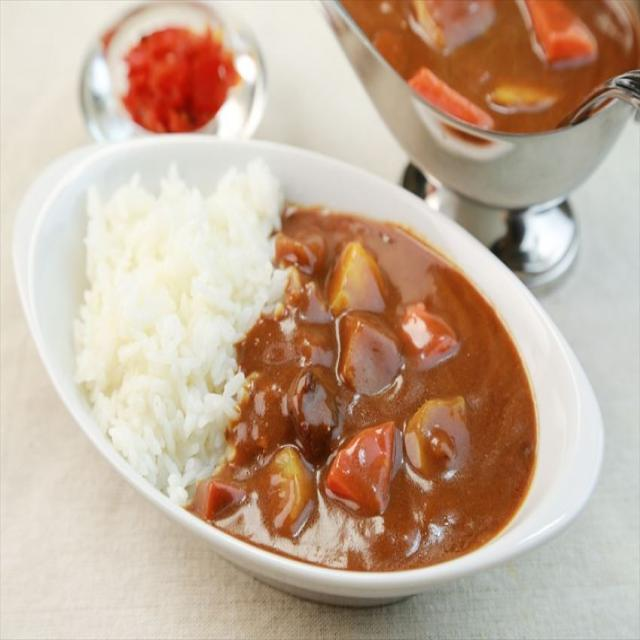carb: (76, 164, 288, 503)
meat: (290, 365, 341, 463)
vegetable: (253, 448, 316, 537), (330, 425, 394, 511), (338, 314, 403, 394), (405, 400, 470, 479), (324, 246, 391, 319), (397, 309, 459, 362), (278, 234, 330, 276), (197, 483, 248, 517)
